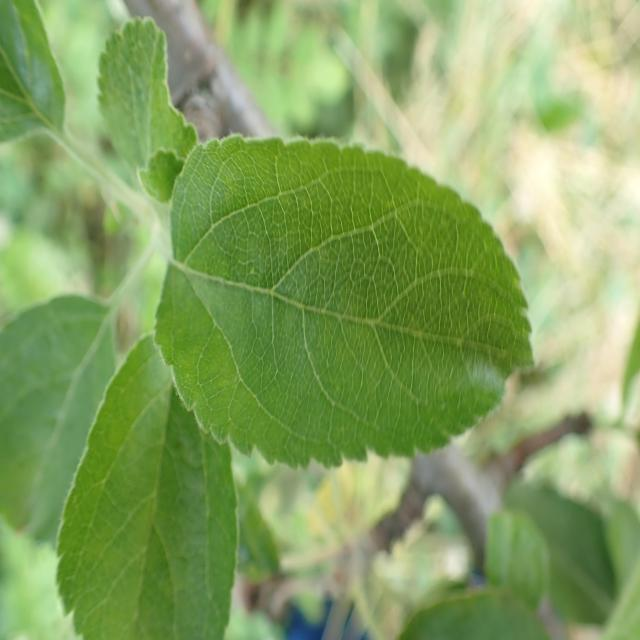healthy: (153, 133, 535, 472), (56, 332, 238, 640), (0, 294, 116, 545), (97, 16, 198, 204), (0, 0, 66, 144)
